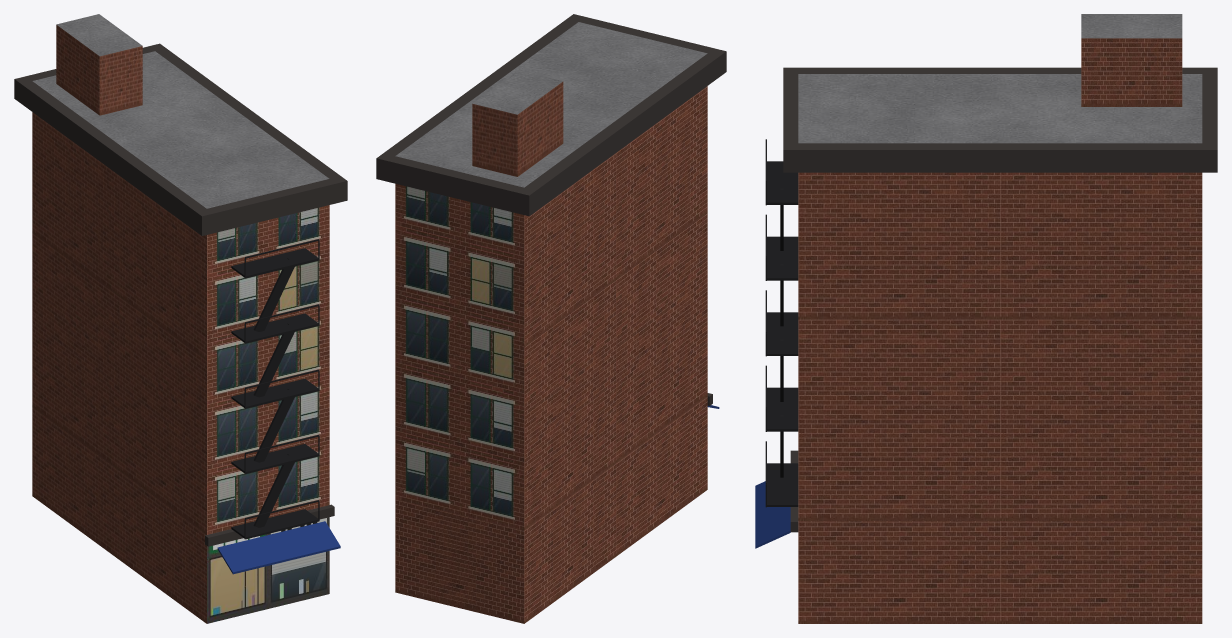
File: 010_tenement_narrow.glb
The picture shows the model from 3 angles, left to right: view 1: azimuth 30°, elevation 25°; view 2: azimuth 150°, elevation 25°; view 3: azimuth 270°, elevation 25°; orthographic projection. The views are drawn at different scales.
Parts seen in each view (by area): view 1: 010_tenement_narrow; view 2: 010_tenement_narrow; view 3: 010_tenement_narrow.
Boxes of the visible parts, bbox=[...] form: 010_tenement_narrow: bbox=[14, 14, 347, 623]; 010_tenement_narrow: bbox=[376, 14, 726, 623]; 010_tenement_narrow: bbox=[755, 14, 1217, 623].
Size of the model in its own units: 7.7 by 24 by 18.3.
Materials: 7 (4 with a texture image).
